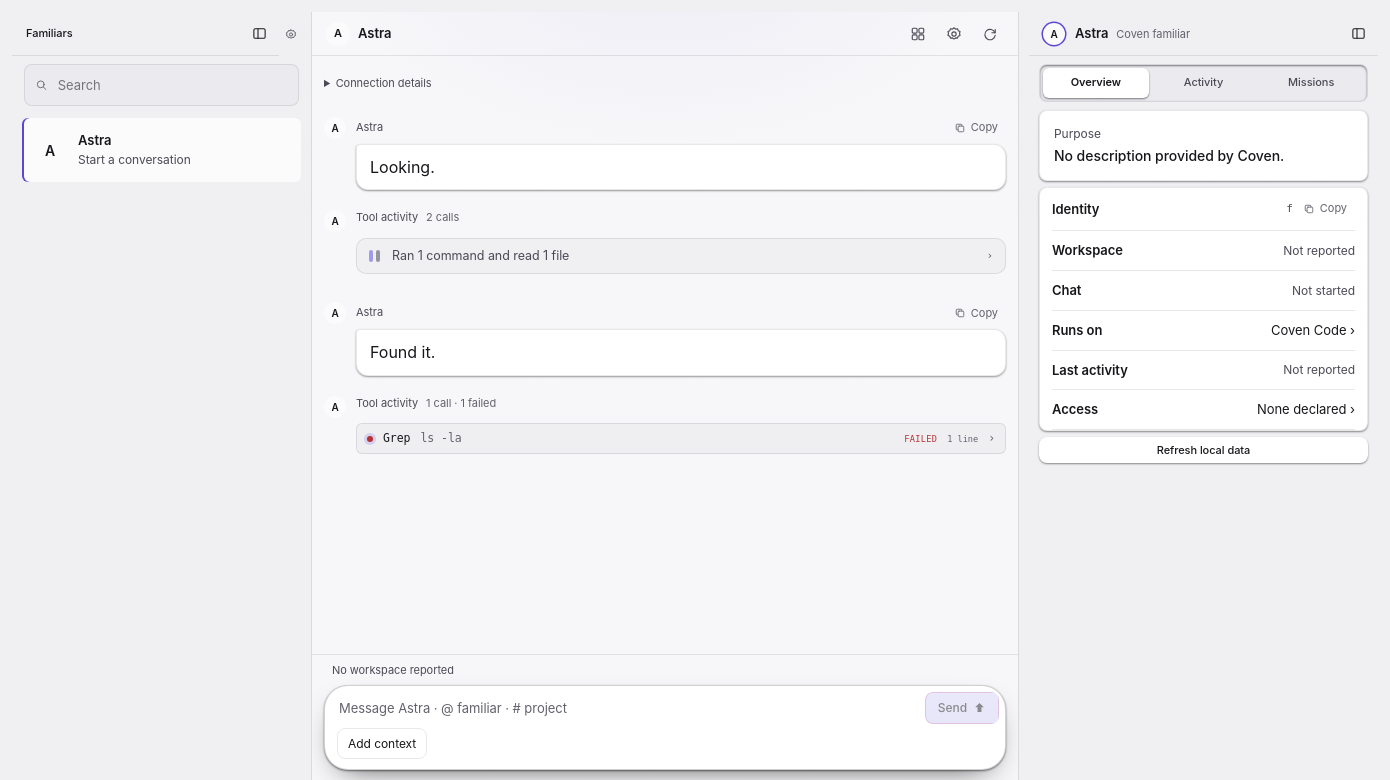
Test: structured tool activity › groups consecutive tool rows into one activity list inside the familiar turn
Expected: the number of lists named "Tool activity" is 1, [356,424,1006,454]
Step 1. Click the button "Ran 1 command and read 1 file ›" → [481, 256], box [357,239,1005,273]
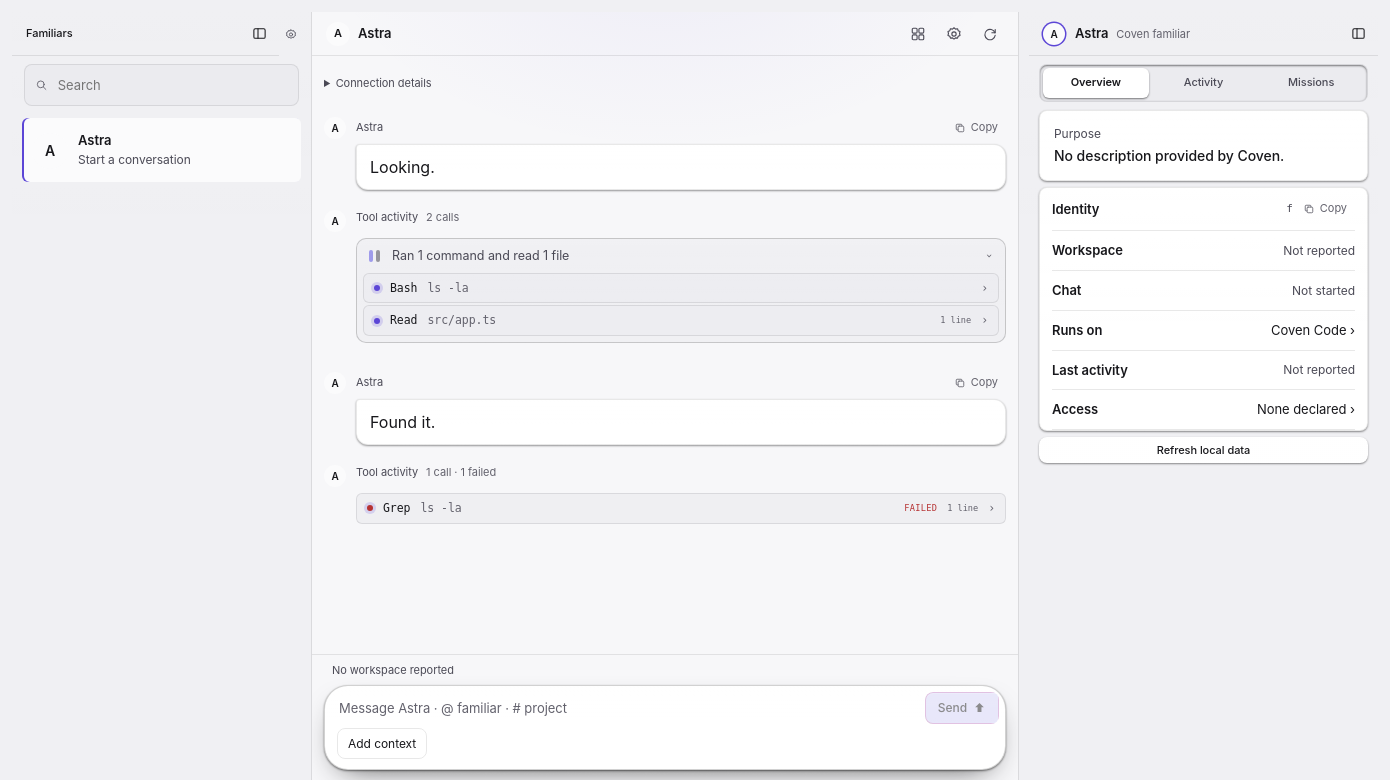
Expected: the text "Tool activity" is shown 2 times, [356,210,418,226]; [356,465,418,481]
Now the number of lists named "Tool activity" is 2, box [363,273,999,336]; [356,493,1006,524]
Now the number of list items is 3, box [363,273,999,303]; [363,305,999,336]; [356,493,1006,524]
